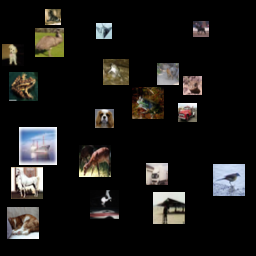airplane: (22, 141, 54, 173)
automobile: (84, 125, 110, 151)
bird: (2, 22, 40, 60), (132, 139, 158, 165), (179, 151, 205, 177), (105, 157, 127, 179)
cat: (70, 189, 108, 227), (55, 154, 77, 176)
deer: (17, 73, 52, 108), (88, 44, 110, 66)
frog: (156, 77, 185, 106), (136, 37, 165, 66), (161, 180, 187, 206), (45, 213, 64, 232)
ship: (205, 201, 243, 239), (64, 75, 102, 113)
